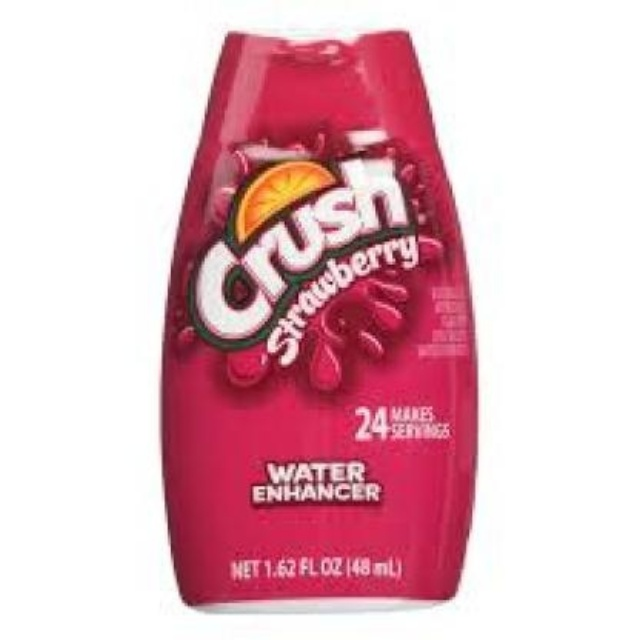trash: (162, 32, 475, 605)
